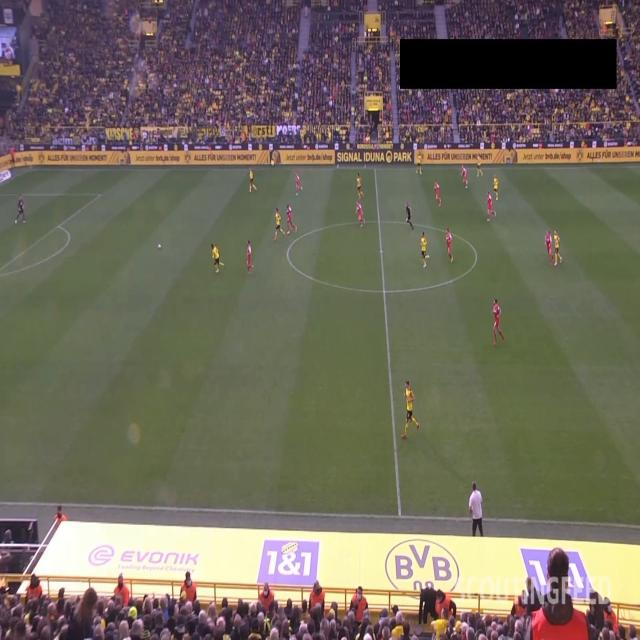ball: (157, 242, 162, 250)
